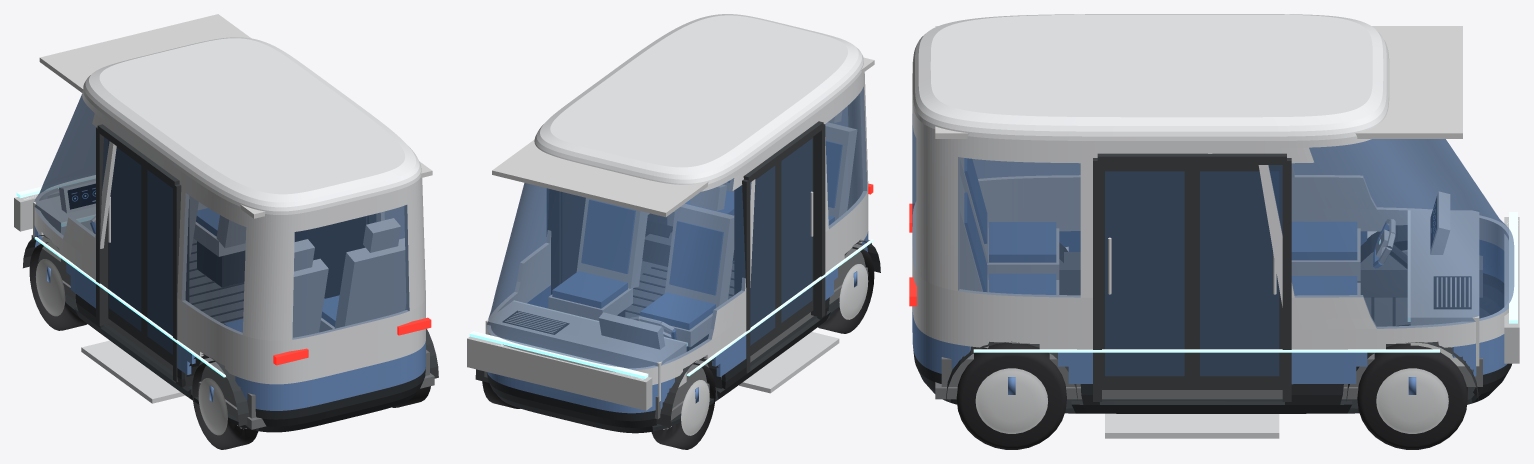
The model's file is pod.glb.
3 renders of one model, left to right at view 1: azimuth 30°, elevation 25°; view 2: azimuth 150°, elevation 25°; view 3: azimuth 270°, elevation 25°, orthographic. The views are drawn at different scales.
Visible parts, largest first — view 1: body, interior, body_glass, trim, door_L1, door_L2, tyre_BL, tyre_FL, door_R2, door_R1; view 2: body, body_glass, interior, trim, door_L2, door_L1, tyre_FL, tyre_BL, door_R1; view 3: body, body_glass, interior, door_R2, door_R1, trim, tyre_BR, tyre_FR, steering_wheel.
Boxes of the visible parts, <box> form: body: <box>34,37,425,432</box>; interior: <box>31,14,434,429</box>; body_glass: <box>34,94,409,339</box>; trim: <box>14,124,438,426</box>; door_L1: <box>108,140,144,344</box>; door_L2: <box>144,167,172,365</box>; tyre_BL: <box>192,360,258,449</box>; tyre_FL: <box>29,242,87,330</box>; door_R2: <box>327,216,367,297</box>; door_R1: <box>294,225,327,298</box>; body: <box>486,14,868,433</box>; body_glass: <box>486,87,867,369</box>; interior: <box>484,57,874,420</box>; trim: <box>467,121,880,426</box>; door_L2: <box>777,137,813,335</box>; door_L1: <box>750,163,777,355</box>; tyre_FL: <box>651,363,715,449</box>; tyre_BL: <box>818,247,874,333</box>; door_R1: <box>561,192,585,283</box>; body: <box>912,14,1511,413</box>; body_glass: <box>912,114,1514,328</box>; interior: <box>935,26,1482,399</box>; door_R2: <box>1102,165,1192,389</box>; door_R1: <box>1192,165,1282,389</box>; trim: <box>909,153,1519,438</box>; tyre_BR: <box>956,343,1066,449</box>; tyre_FR: <box>1357,343,1467,449</box>; steering_wheel: <box>1373,219,1395,268</box>.
Size of the model in its own units: 2.27 by 2.35 by 3.99.
